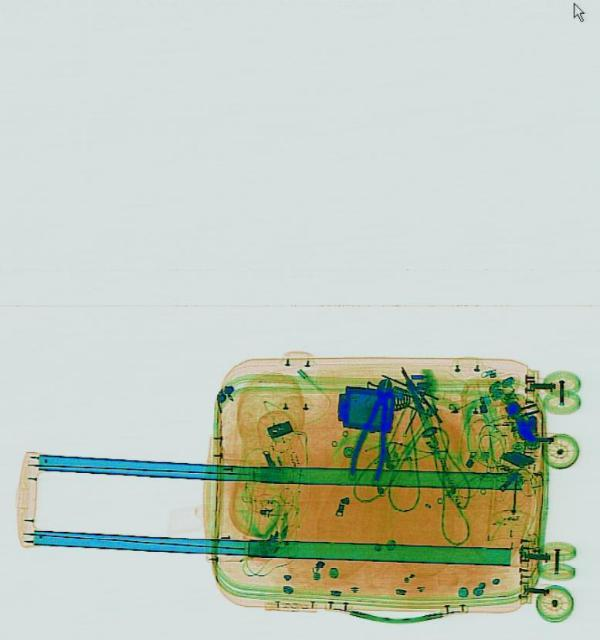Pliers: (347, 373, 400, 481)
